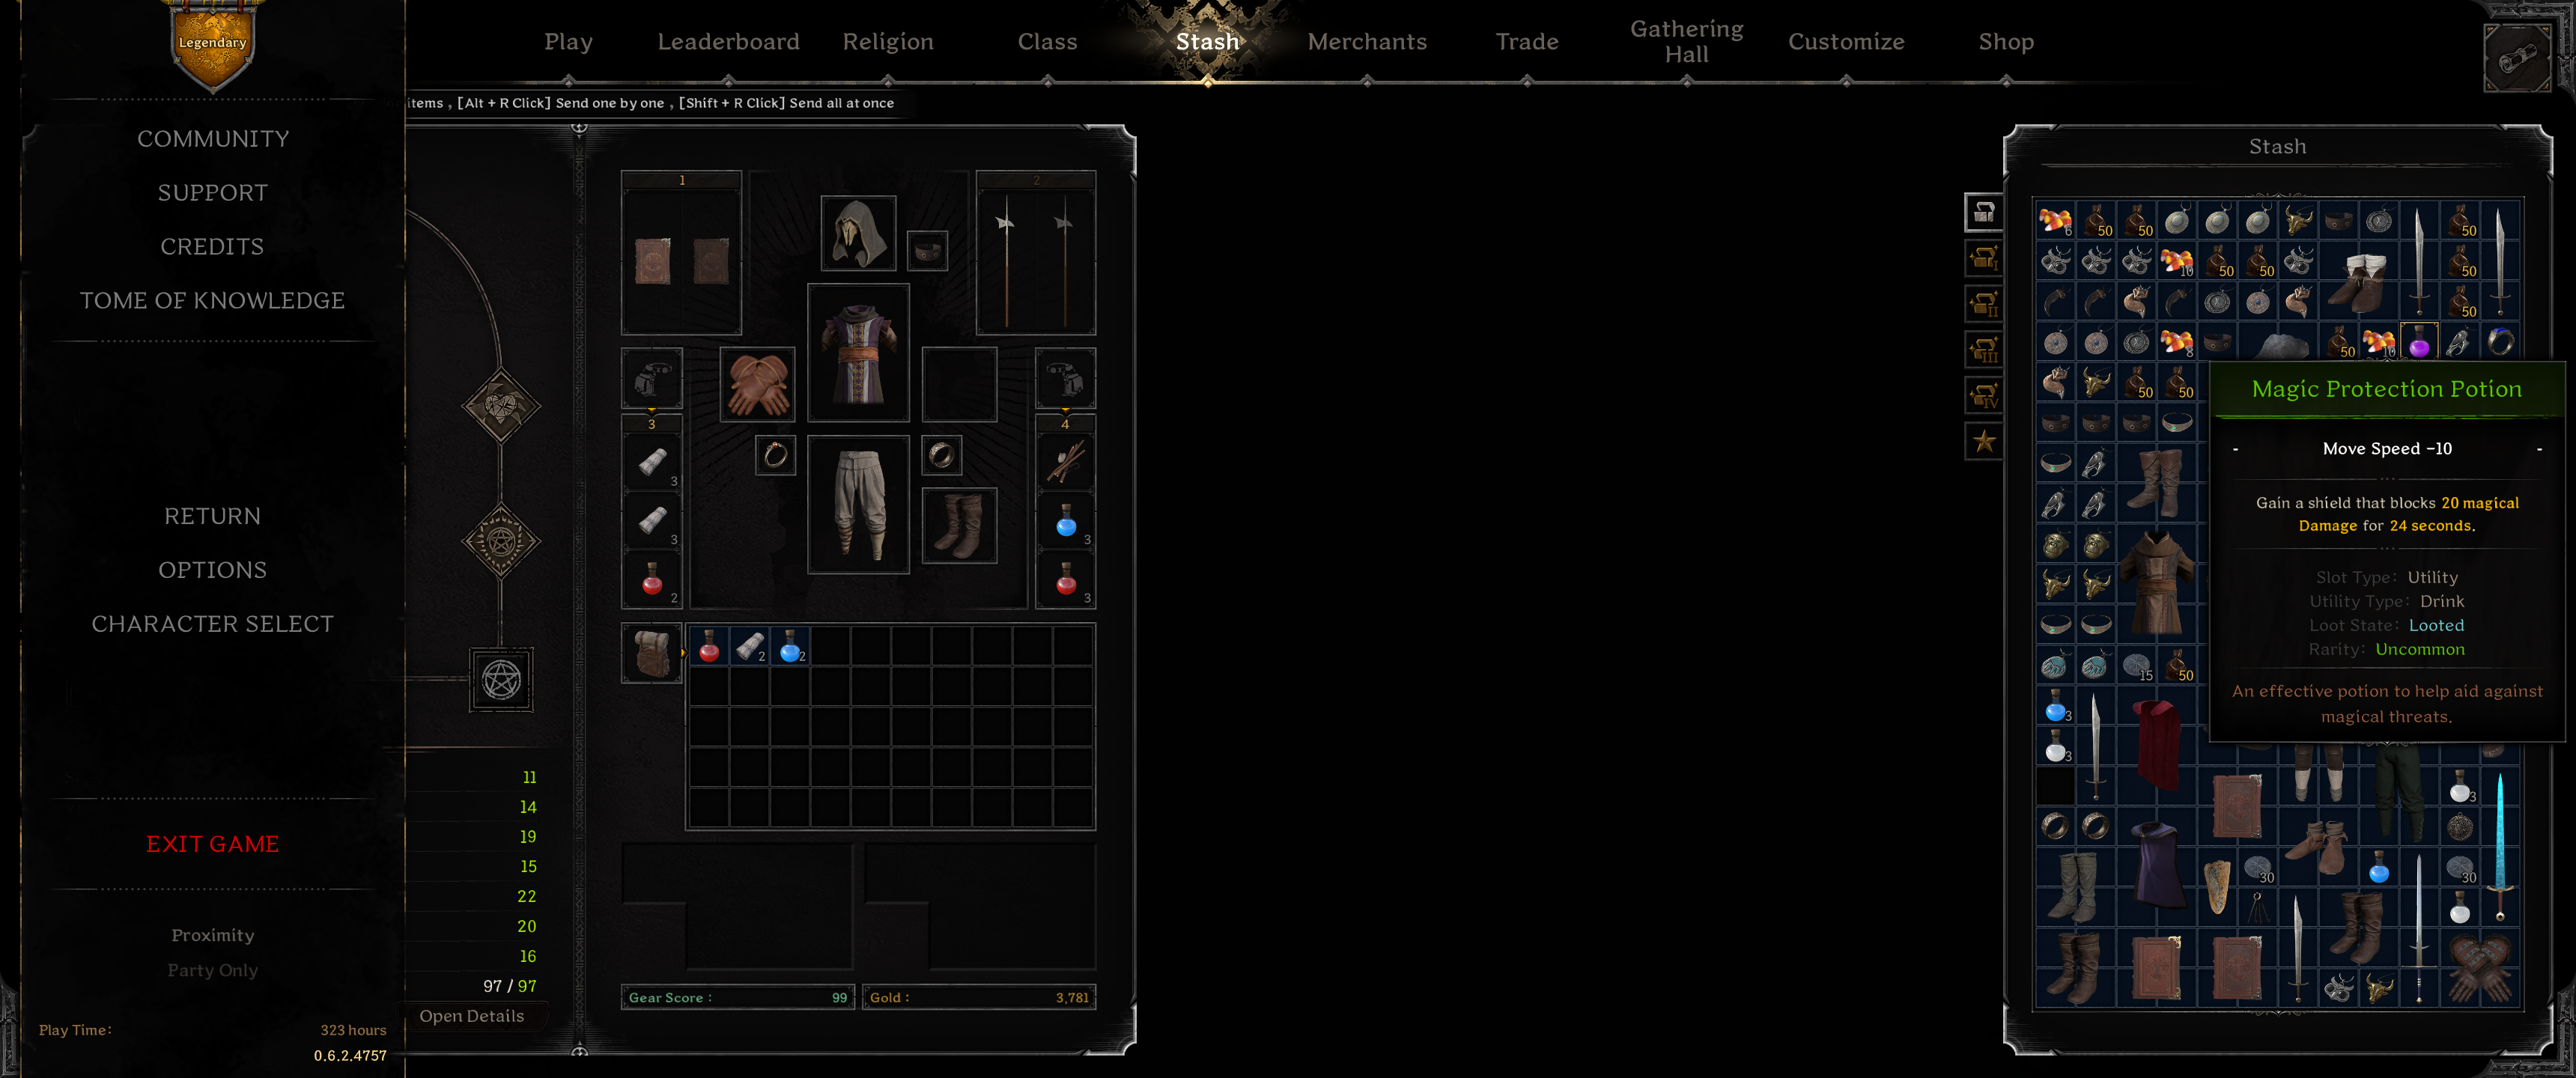Tooltip: (2208, 358, 2568, 744)
